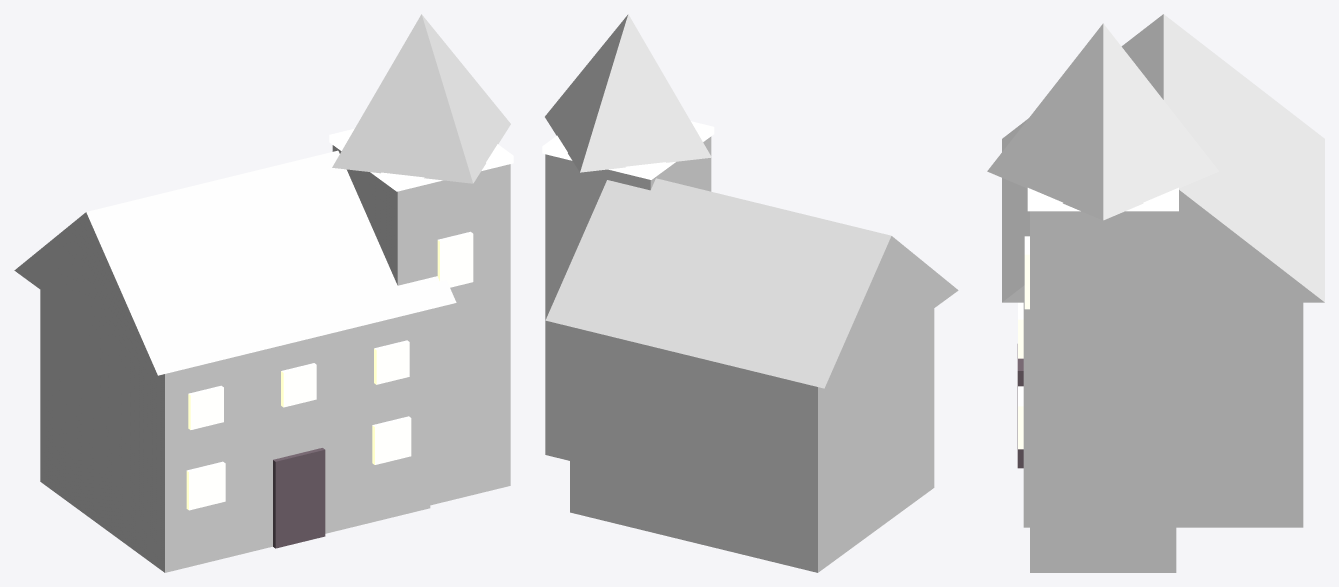
File: tier_2_rare.glb
3 views of the same model, side by side, from view 1: azimuth 30°, elevation 25°; view 2: azimuth 150°, elevation 25°; view 3: azimuth 270°, elevation 25° (orthographic). The views are drawn at different scales.
Visible parts, largest first — view 1: Body, Roof, Tower, TowerRoof, Door, TowerWindow0, Window0, Window1, TowerEave, WindowHigh0, WindowHigh1, WindowHigh2; view 2: Body, Roof, TowerRoof, Tower, TowerEave; view 3: Tower, Roof, Body, TowerRoof, TowerEave, TowerWindow0.
Boxes of the visible parts, x1,y1,x2,y2 form: Body: [40, 290, 430, 572]; Roof: [14, 150, 456, 375]; Tower: [332, 145, 510, 505]; TowerRoof: [332, 14, 510, 183]; Door: [273, 448, 325, 548]; TowerWindow0: [437, 231, 473, 287]; Window0: [186, 461, 225, 510]; Window1: [372, 416, 411, 464]; TowerEave: [329, 128, 513, 191]; WindowHigh0: [188, 385, 223, 429]; WindowHigh1: [281, 363, 316, 407]; WindowHigh2: [374, 340, 409, 384]; Body: [570, 308, 934, 572]; Roof: [545, 178, 958, 388]; TowerRoof: [545, 14, 711, 172]; Tower: [545, 136, 711, 460]; TowerEave: [542, 121, 714, 179]; Tower: [1030, 211, 1176, 572]; Roof: [1002, 14, 1324, 302]; Body: [1023, 302, 1303, 527]; TowerRoof: [987, 23, 1219, 220]; TowerEave: [1027, 187, 1178, 211]; TowerWindow0: [1024, 236, 1029, 309].
Bounding box in the file's own units: 12 × 13.3 × 7.85.
